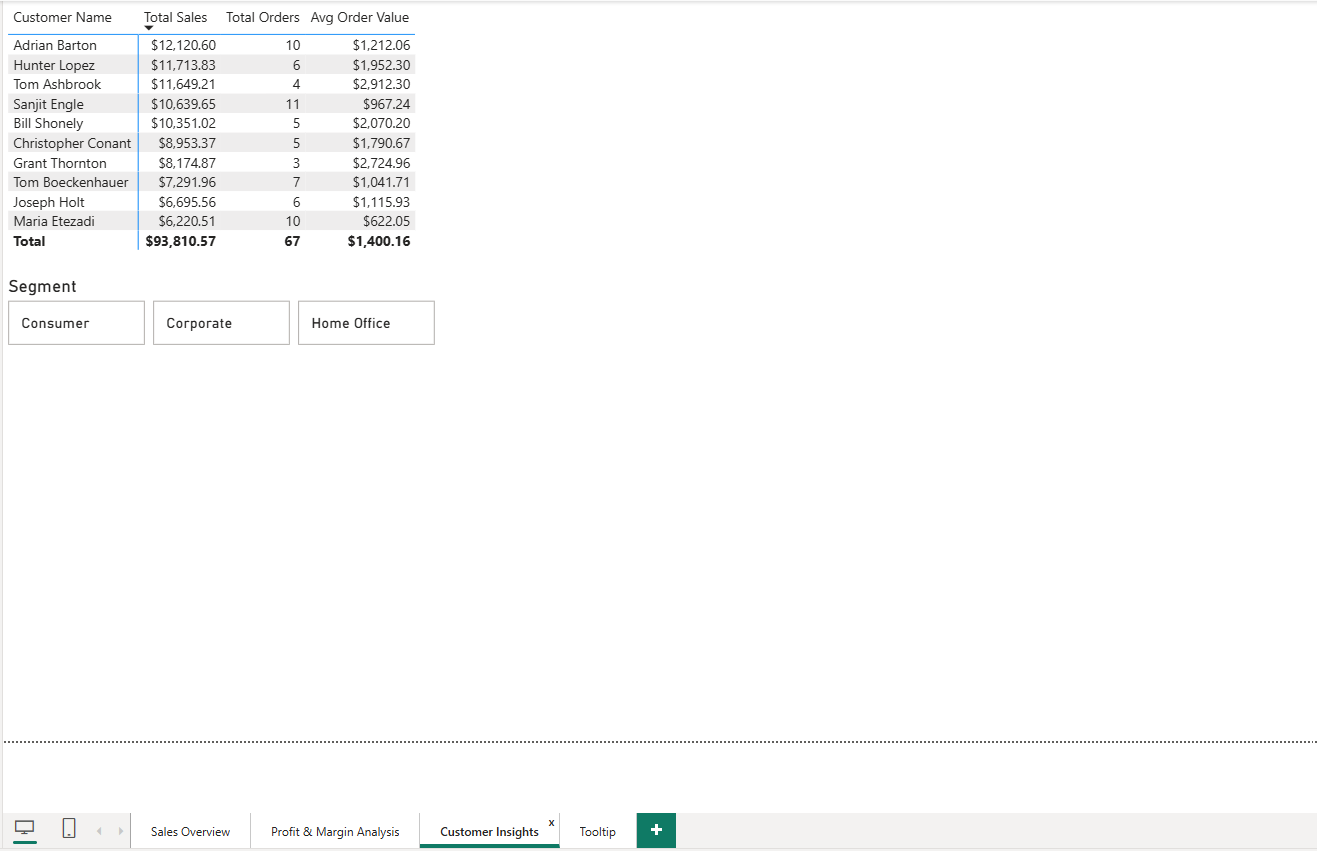

The dashboard page shown, as its layout file describes it:
{"tool":"powerbi","page":{"name":"Customer Insights","canvas":[1280,720],"ordinal":2},"visuals":[{"type":"pivotTable","fields":{"Rows":["superstore.Customer Name"],"Values":["DateTable.Total Sales","DateTable.Total Orders","DateTable.Avg Order Value"]},"box":[0,0,427,267.5],"z":0},{"type":"advancedSlicerVisual","fields":{"Values":["superstore.Segment"]},"box":[0,267.5,427,72.9],"z":1000}]}

Visuals, with their boxes on the page's 1280x720 design canvas (x1, y1, x2, y2). These are canvas units, not pixel positions in the 1317x851 screenshot, which may show the page scaled, cropped or inside an application window:
pivotTable - superstore.Customer Name x DateTable.Total Sales: rect(0, 0, 427, 268)
advancedSlicerVisual - superstore.Segment: rect(0, 268, 427, 340)
